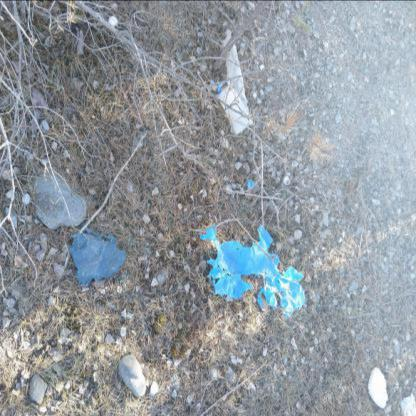Plastic bag - wrapper: (200, 224, 305, 320), (68, 226, 126, 286), (218, 43, 253, 135), (222, 30, 231, 47), (218, 82, 228, 94), (247, 179, 255, 188)
Styrofoam piece: (368, 367, 388, 408)
